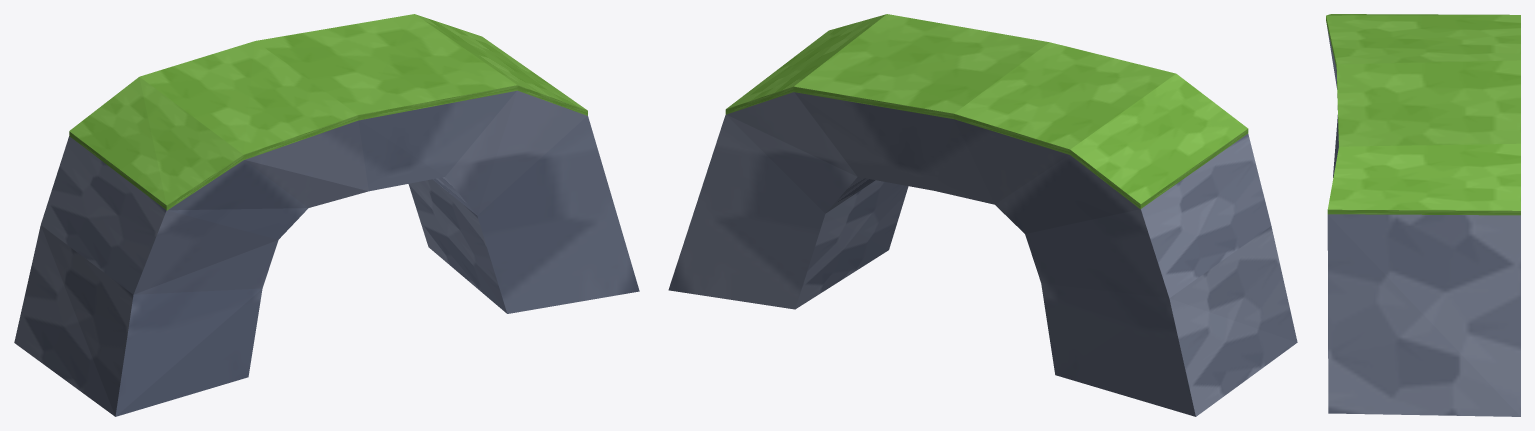
Rendered from sea_arch.glb.
3 renders of one model, left to right at view 1: azimuth 30°, elevation 25°; view 2: azimuth 150°, elevation 25°; view 3: azimuth 270°, elevation 25°, orthographic. The views are drawn at different scales.
Parts seen in each view (by area): view 1: beach_sea_arch; view 2: beach_sea_arch; view 3: beach_sea_arch.
Boxes of the visible parts, x1,y1,x2,y2 form: beach_sea_arch: [14, 14, 639, 416]; beach_sea_arch: [668, 14, 1297, 416]; beach_sea_arch: [1326, 14, 1520, 416].
Size of the model in its own units: 13 by 5.8 by 4.5.
Materials: 1 (1 with a texture image).
